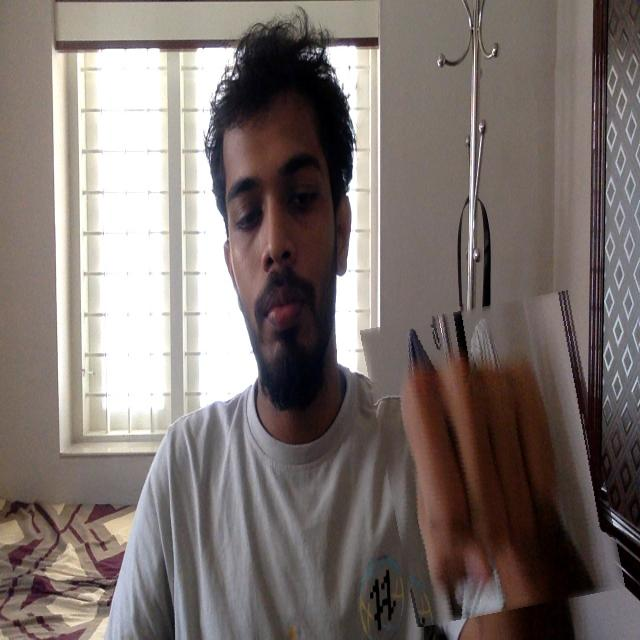Yes: (374, 298, 612, 619)
